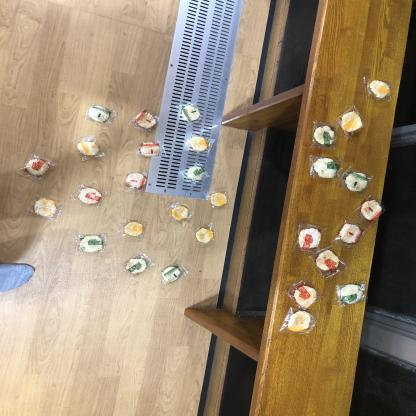green_setoshio: (334, 281, 370, 307), (309, 119, 340, 149), (306, 153, 340, 180), (342, 169, 375, 196), (156, 260, 190, 286), (82, 102, 119, 125), (174, 100, 206, 126), (74, 232, 107, 256), (123, 252, 152, 277), (183, 164, 210, 184)
red_setoshio: (68, 182, 109, 209), (117, 168, 155, 196), (333, 219, 367, 249), (290, 280, 322, 311), (310, 248, 344, 276), (294, 223, 326, 251), (21, 156, 55, 182), (355, 198, 388, 223), (132, 109, 159, 132), (138, 140, 168, 160)
yellow_setoshio: (24, 193, 68, 225), (283, 309, 321, 338), (362, 75, 394, 104), (337, 106, 367, 135), (73, 134, 103, 162), (185, 134, 219, 158), (118, 218, 151, 242), (166, 200, 193, 227), (204, 188, 235, 211), (194, 224, 218, 246)
